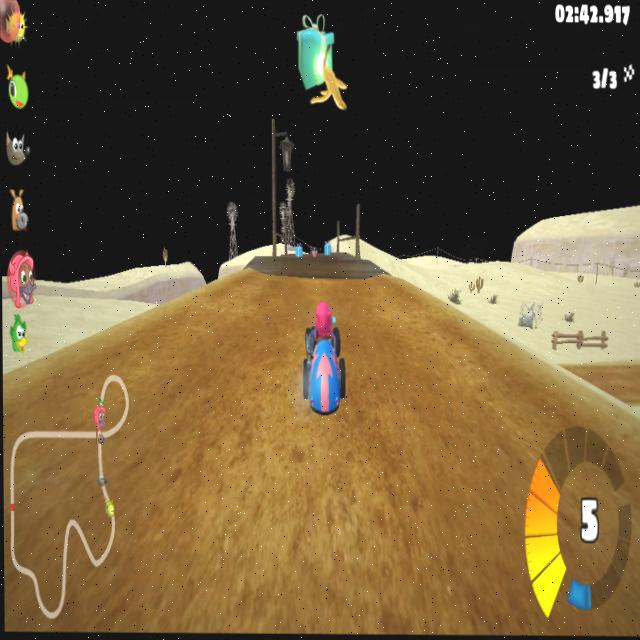bonus: (323, 242, 336, 256), (292, 243, 304, 256)
enemy_kart: (311, 245, 319, 259)
player_kart: (304, 303, 346, 418)
track: (3, 376, 253, 638), (391, 420, 640, 633), (251, 257, 303, 636), (340, 261, 389, 621), (128, 303, 252, 382), (304, 422, 344, 629), (388, 298, 451, 418), (476, 340, 533, 417), (534, 375, 607, 418), (451, 318, 478, 423), (67, 343, 131, 373), (301, 259, 341, 302), (214, 282, 253, 301), (114, 326, 127, 339)
